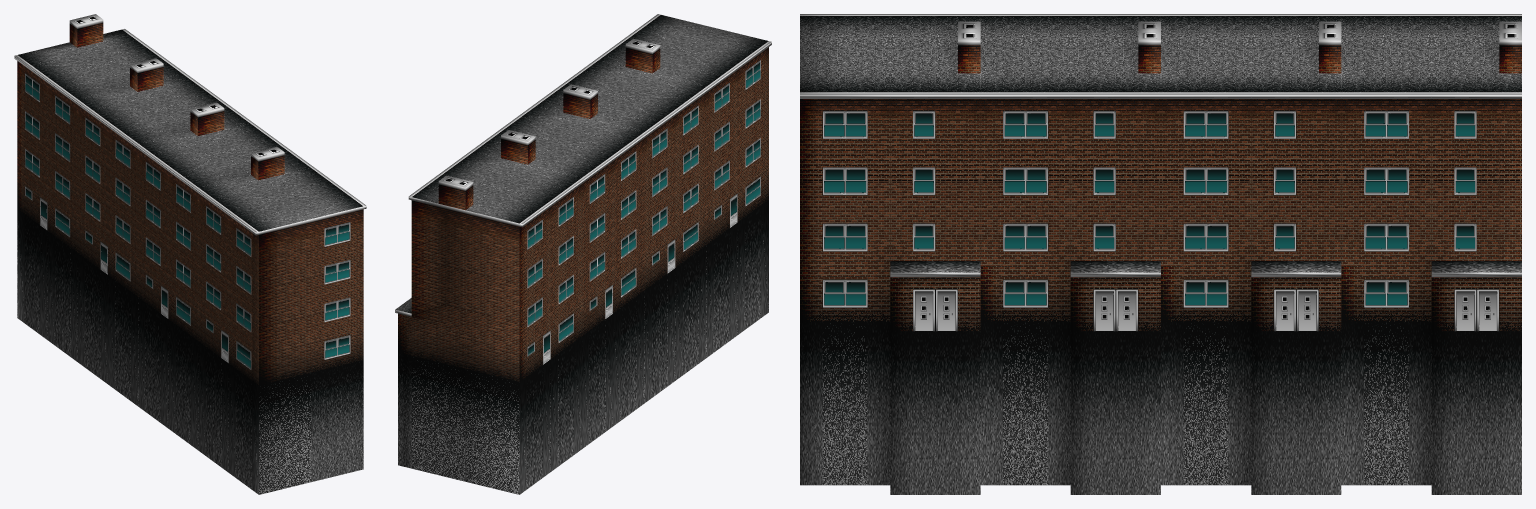
The model's file is maisonet_mod1_4a.fbx.
3 views of the same model, side by side, from view 1: azimuth 30°, elevation 25°; view 2: azimuth 150°, elevation 25°; view 3: azimuth 270°, elevation 25° (orthographic). The views are drawn at different scales.
Parts seen in each view (by area): view 1: maisonet_mod_1_4a; view 2: maisonet_mod_1_4a; view 3: maisonet_mod_1_4a.
Part boxes in pixels (left/top/right/bottom): maisonet_mod_1_4a: left=14, top=14, right=366, bottom=494; maisonet_mod_1_4a: left=395, top=14, right=771, bottom=494; maisonet_mod_1_4a: left=800, top=14, right=1521, bottom=494.
Size of the model in its own units: 1062 by 2343 by 3600.
